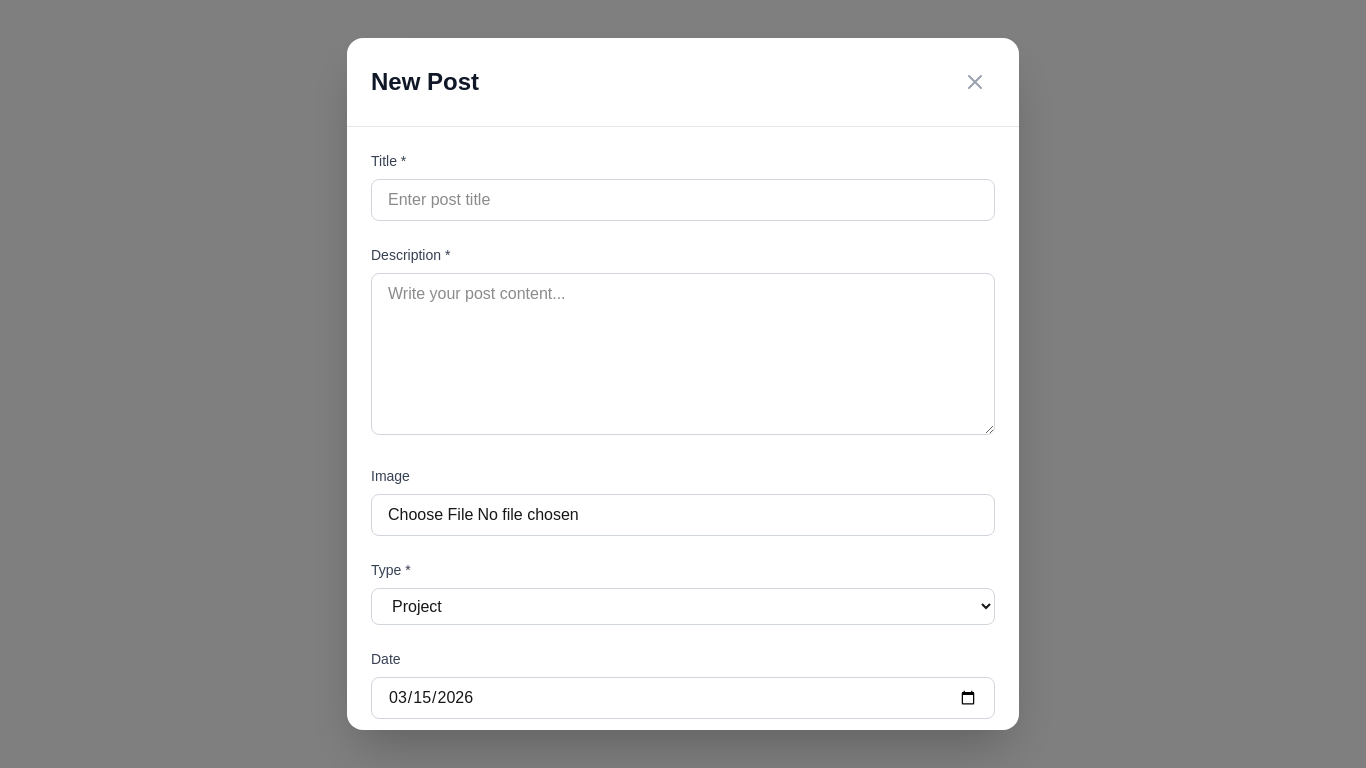
Test: PostFormModal › shows validation error when title is empty
The image size is (1366, 768).
Clear the field labelled "Title *" at (683,200), box [371,179,995,221]
(page scrolled)
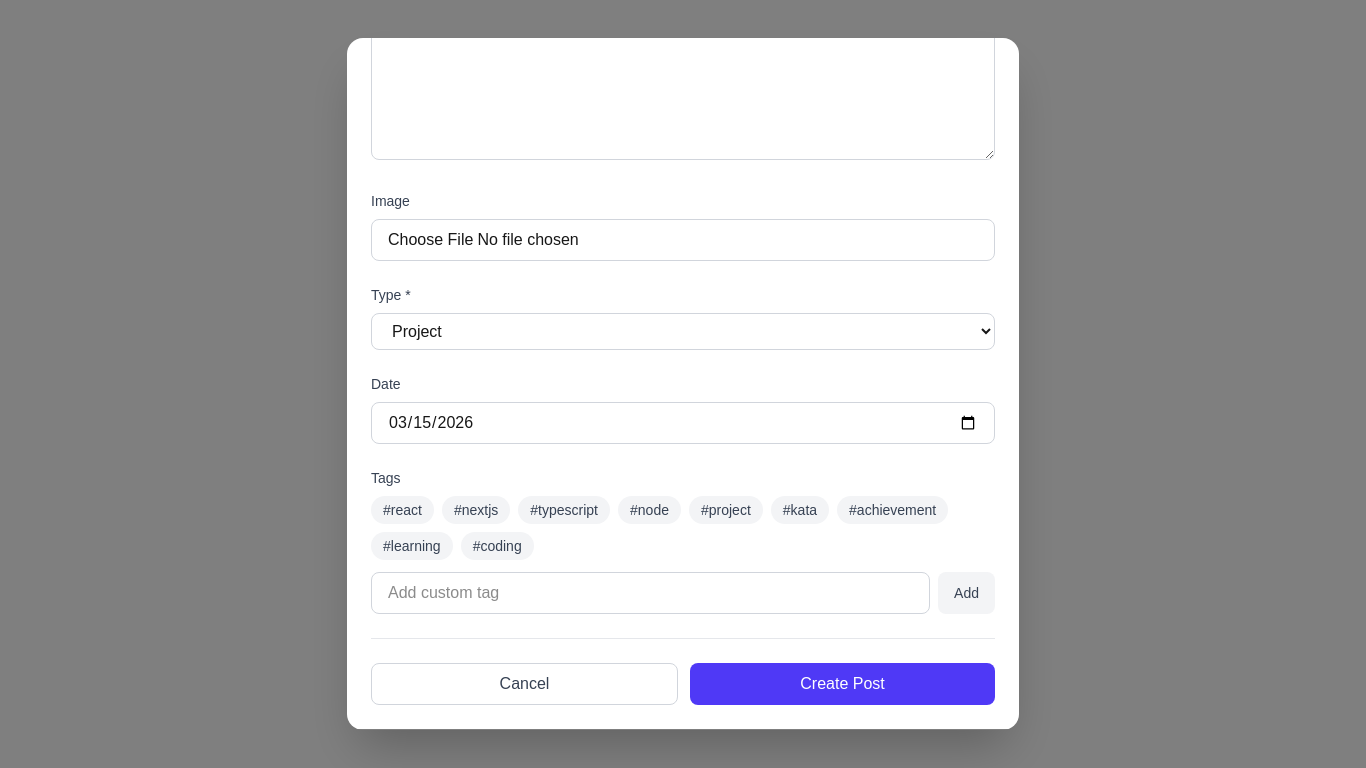
Click the button "Create Post" at (842,684), box [690,663,995,705]
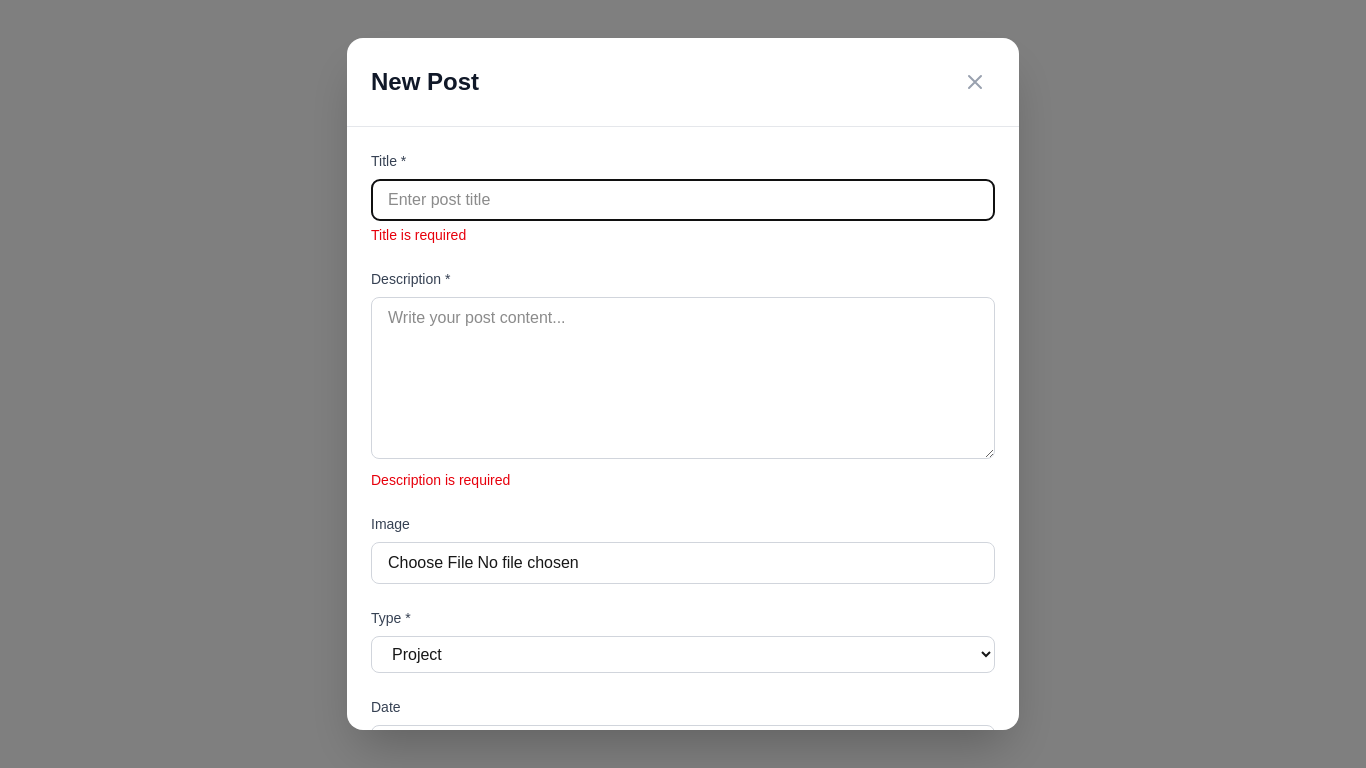
Expected: the text "Title is required" is shown, [371,227,466,243]
